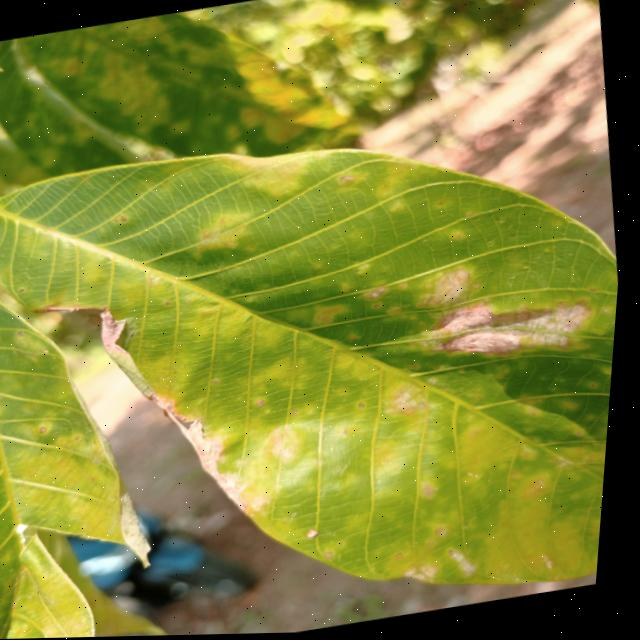Leaf-Blight: (166, 400, 264, 525), (448, 328, 529, 365), (99, 308, 139, 358), (444, 305, 505, 337)
